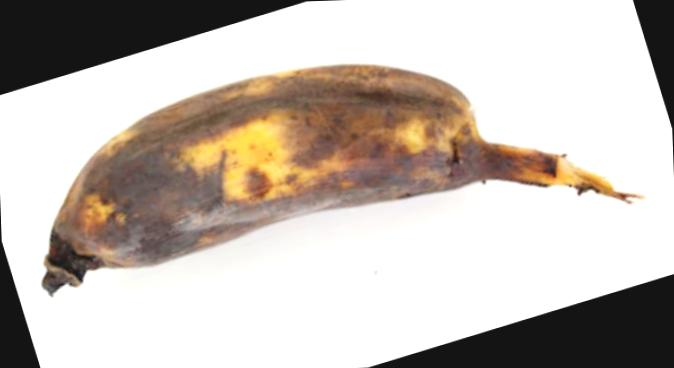Banana Overripe: (0, 36, 670, 318)
